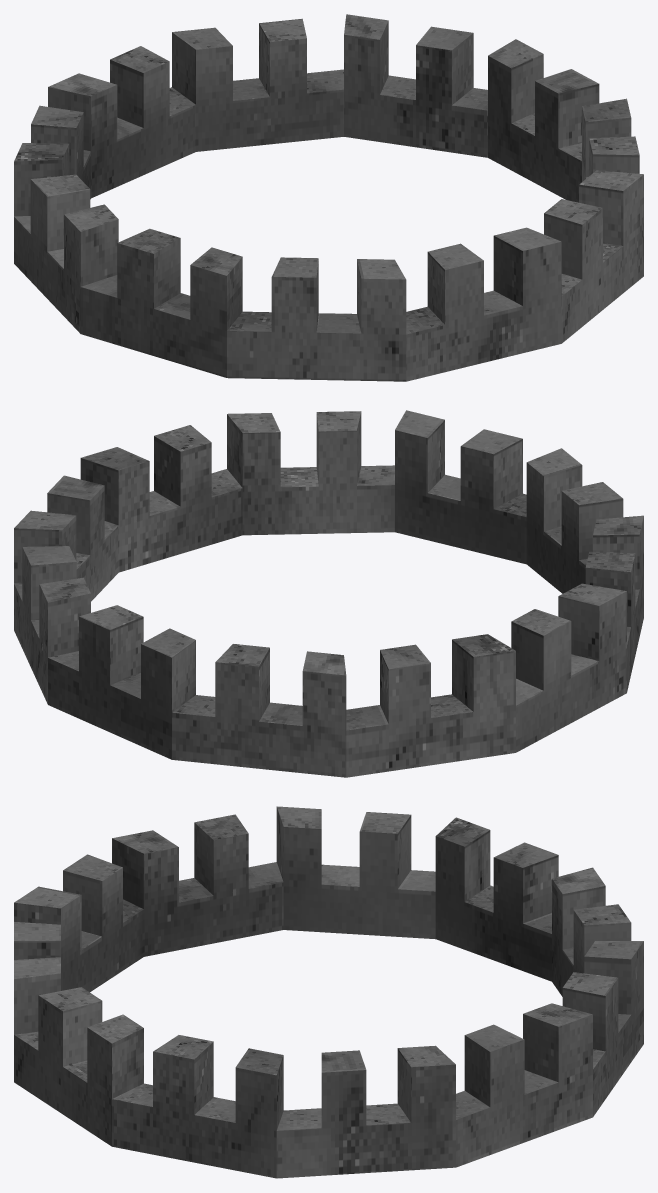
File: stonecircle_wt.fbx
3 renders of one model, top to bottom at view 1: azimuth 30°, elevation 25°; view 2: azimuth 150°, elevation 25°; view 3: azimuth 270°, elevation 25°, orthographic.
Parts seen in each view (by area): view 1: Cylinder.013; view 2: Cylinder.013; view 3: Cylinder.013.
Boxes of the visible parts, x1,y1,x2,y2 form: Cylinder.013: [14, 14, 643, 381]; Cylinder.013: [14, 410, 643, 777]; Cylinder.013: [14, 806, 643, 1178].
Bounding box in the file's own units: 3363 × 601 × 3329.
